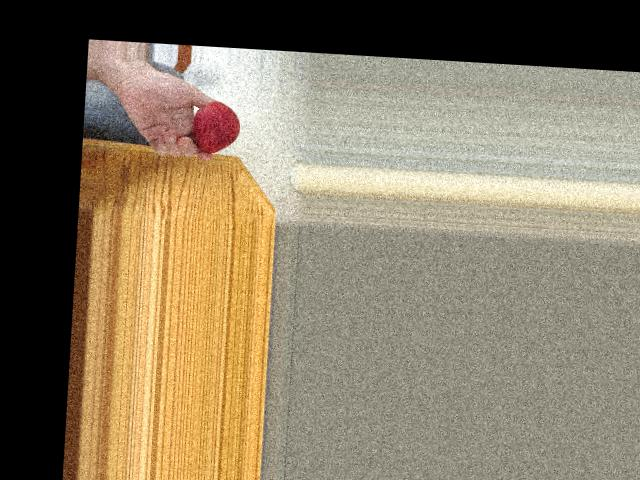apple: (185, 96, 243, 155)
